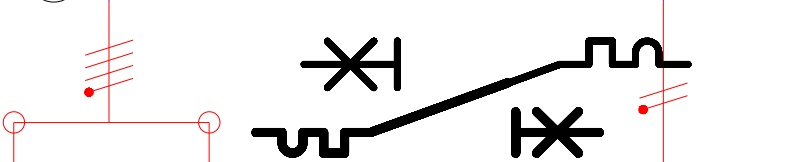interruptor_termomagnetico: (294, 31, 698, 130), (247, 74, 608, 162)
